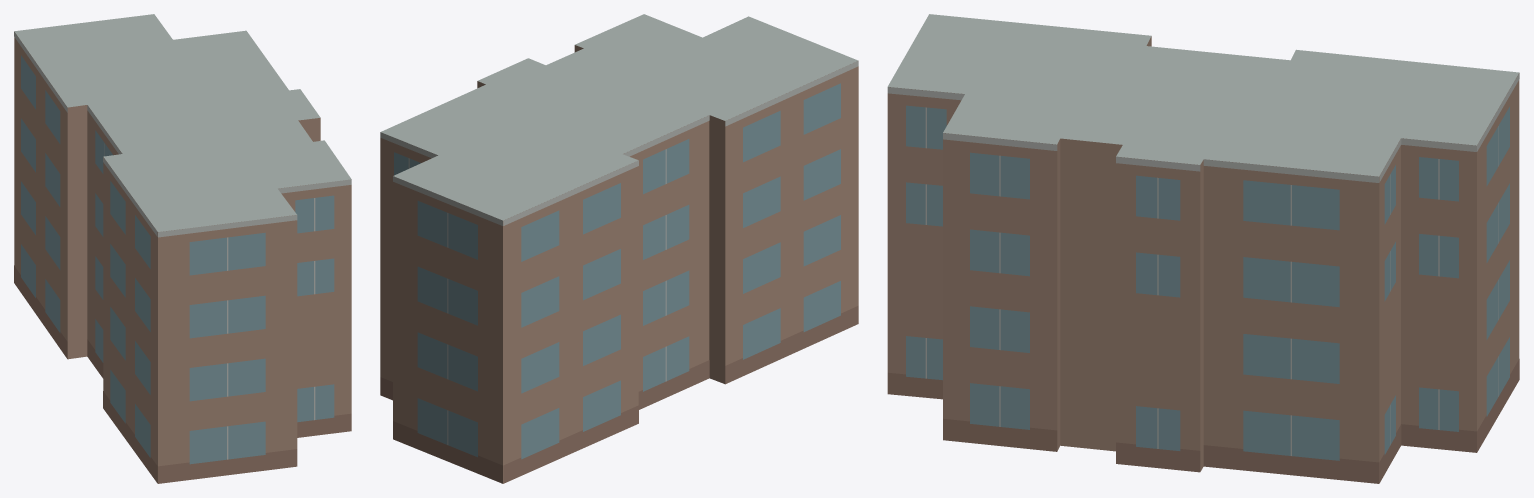
The model's file is survey-upis-32600975.glb.
3 views of the same model, side by side, from view 1: azimuth 30°, elevation 25°; view 2: azimuth 150°, elevation 25°; view 3: azimuth 270°, elevation 25° (orthographic). The views are drawn at different scales.
Parts seen in each view (by area): view 1: survey-upis-32600975.tmp; view 2: survey-upis-32600975.tmp; view 3: survey-upis-32600975.tmp.
Part boxes in pixels (x1=…): survey-upis-32600975.tmp: x1=14, y1=14, x2=351, y2=483; survey-upis-32600975.tmp: x1=380, y1=14, x2=858, y2=483; survey-upis-32600975.tmp: x1=887, y1=14, x2=1519, y2=483.
Size of the model in its own units: 12.95 by 11.4 by 21.26.
